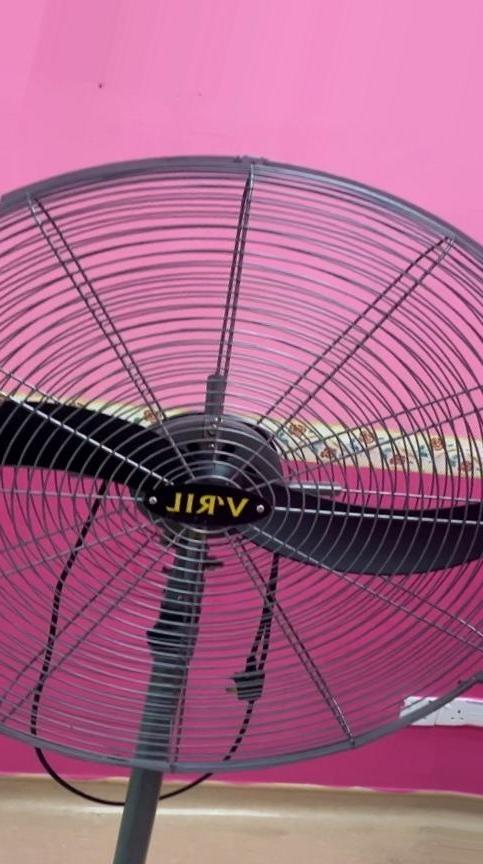fan: (1, 142, 483, 864)
